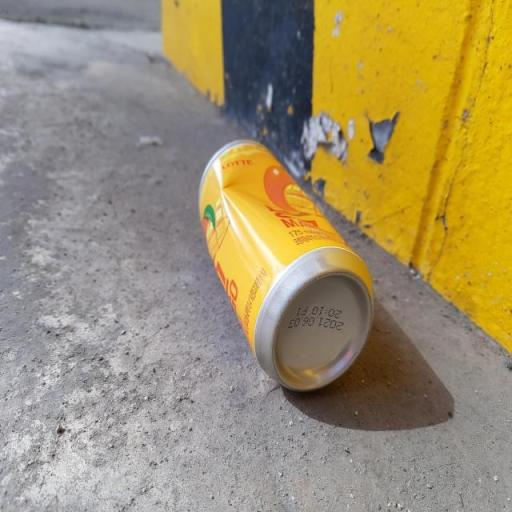metal: (182, 130, 389, 413)
